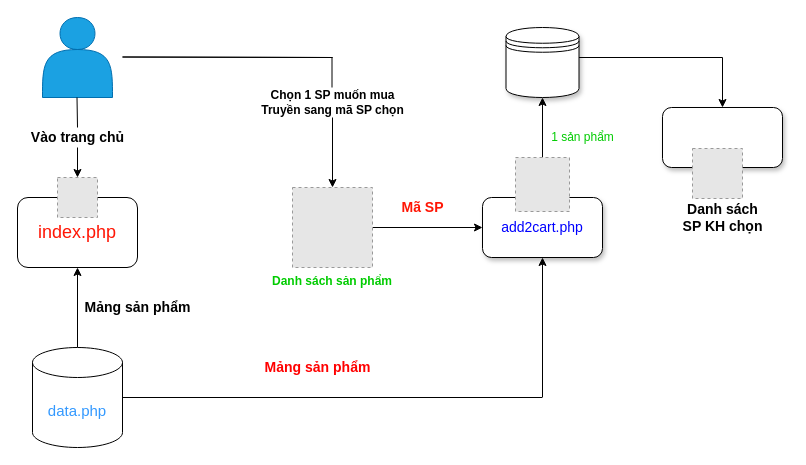
Image size: 806x465. Some labels were removed from this diagram. Grey dashed boxes stand in for pictures. Here are the shapes that lost their labels. From the top down, the centre of each, then its label:
(x=543, y=63): SESSION
(x=723, y=138): cart.php
